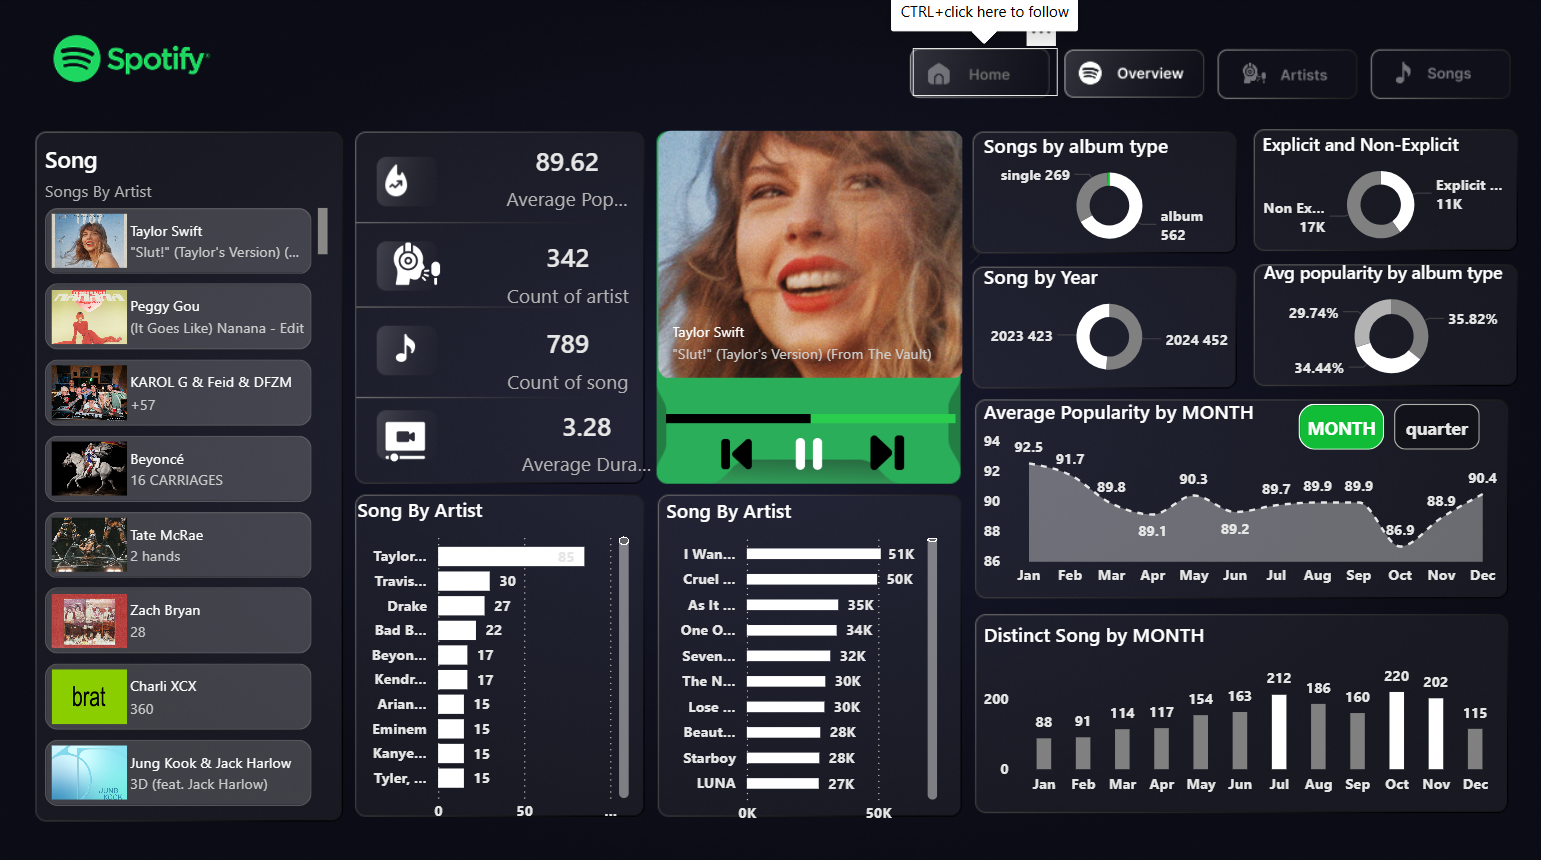

The dashboard page shown, as its layout file describes it:
{"tool":"powerbi","page":{"name":"Page 1","canvas":[1280,720],"ordinal":1},"visuals":[{"type":"clusteredBarChart","title":"Song By Artist","fields":{"Category":["Top-50-World.artist"],"Y":["Count(Top-50-World.song)"]},"box":[292.5,412.5,235,280],"z":0},{"type":"clusteredBarChart","title":"Song By Artist","fields":{"Category":["Top-50-World.song"],"Y":["Sum(Top-50-World.popularity)"]},"box":[547.7,414,234.9,280.2],"z":1000},{"type":"areaChart","fields":{"Category":["Top-50-World.MONTH"],"Y":["Top-50-World.Average Popularity"]},"box":[811.2,331.2,437.5,165],"z":2000},{"type":"advancedSlicerVisual","fields":{"Values":["slicer_option.slicer_option"]},"box":[1072.5,331.2,160,48.8],"z":3000},{"type":"donutChart","title":"Songs by album type","fields":{"Y":["Count(Top-50-World.song)"],"Category":["Top-50-World.album_type"]},"box":[811.2,111.2,218.8,101.2],"z":4000},{"type":"donutChart","title":"Explicit and Non-Explicit","fields":{"Y":["Top-50-World.Explicit Songs Count","Top-50-World.Non Explicit Songs Count"]},"box":[1042.5,111.2,206.2,101.2],"z":5000},{"type":"donutChart","title":"Song by Year","fields":{"Y":["Count(Top-50-World.song)"],"Category":["Top-50-World.YEAR"]},"box":[811.6,219.8,218.6,101.2],"z":6000},{"type":"donutChart","title":"Avg popularity by album type","fields":{"Category":["Top-50-World.album_type"],"Y":["Top-50-World.Average Popularity"]},"box":[1043,216.3,222.1,108.1],"z":7000},{"type":"columnChart","title":"Distinct Song by MONTH","fields":{"Category":["Top-50-World.MONTH"],"Y":["Count(Top-50-World.song)"]},"box":[811.6,516.3,437.2,153.5],"z":8000},{"type":"card","fields":{"Values":["Count(Top-50-World.song)"]},"box":[411.6,262.8,120.9,70.9],"z":9000},{"type":"card","fields":{"Values":["Count(Top-50-World.artist)"]},"box":[411.6,191.9,120.9,70.9],"z":10000},{"type":"card","fields":{"Values":["Top-50-World.Average Duration (Minutes)"]},"box":[426.7,331.4,120.9,70.9],"z":11000},{"type":"card","fields":{"Values":["Top-50-World.Average Popularity"]},"box":[411.6,111.6,119.8,70.9],"z":12000},{"type":"image","box":[293,347.7,87.2,39.5],"z":13000},{"type":"image","box":[325.6,270.9,23.3,39.5],"z":14000},{"type":"image","box":[316.3,201.2,60.5,38.4],"z":15000},{"type":"image","box":[319.8,131.4,26.7,39.5],"z":16000},{"type":"advancedSlicerVisual","title":"Song ","fields":{"Values":["Top-50-World.song"]},"box":[33.5,121.7,244.5,559.4],"z":17000},{"type":"advancedSlicerVisual","title":"Song ","fields":{"Values":["Top-50-World.song"]},"box":[519.8,103.5,304.7,217.4],"z":18000},{"type":"hundredPercentStackedBarChart","fields":{"Y":["Top-50-World.Average Popularity","Avg(Top-50-World.popularity)"]},"box":[547.7,310.5,250,69.8],"z":19000},{"type":"image","box":[583.7,364,55.8,29.1],"z":20000},{"type":"image","box":[710.5,360.5,51.2,32.6],"z":21000},{"type":"image","box":[636.5,365.1,70.3,26.8],"z":22000},{"type":"shape","box":[547.1,111.7,250.1,290.3],"z":23000},{"type":"actionButton","box":[757.1,41.3,120.6,40.2],"z":24000},{"type":"actionButton","box":[882.1,41.3,127.3,40.2],"z":25000},{"type":"actionButton","box":[1139,41.3,120.6,40.2],"z":26000},{"type":"actionButton","box":[1009.4,41.3,120.6,40.2],"z":27000}]}

Visuals, with their boxes on the page's 1280x720 design canvas (x1, y1, x2, y2). These are canvas units, not pixel positions in the 1541x860 screenshot, which may show the page scaled, cropped or inside an application window:
"Song By Artist" clusteredBarChart: (292,412,528,692)
"Song By Artist" clusteredBarChart: (548,414,783,694)
areaChart - Top-50-World.MONTH x Top-50-World.Average Popularity: (811,331,1249,496)
advancedSlicerVisual - slicer_option.slicer_option: (1072,331,1232,380)
"Songs by album type" donutChart: (811,111,1030,212)
"Explicit and Non-Explicit" donutChart: (1042,111,1249,212)
"Song by Year" donutChart: (812,220,1030,321)
"Avg popularity by album type" donutChart: (1043,216,1265,324)
"Distinct Song by MONTH" columnChart: (812,516,1249,670)
card - Count(Top-50-World.song): (412,263,532,334)
card - Count(Top-50-World.artist): (412,192,532,263)
card - Top-50-World.Average Duration (Minutes): (427,331,548,402)
card - Top-50-World.Average Popularity: (412,112,531,182)
image: (293,348,380,387)
image: (326,271,349,310)
image: (316,201,377,240)
image: (320,131,346,171)
"Song " advancedSlicerVisual: (34,122,278,681)
"Song " advancedSlicerVisual: (520,104,824,321)
hundredPercentStackedBarChart - Top-50-World.Average Popularity x Avg(Top-50-World.popularity): (548,310,798,380)
image: (584,364,640,393)
image: (710,360,762,393)
image: (636,365,707,392)
shape: (547,112,797,402)
actionButton: (757,41,878,82)
actionButton: (882,41,1009,82)
actionButton: (1139,41,1260,82)
actionButton: (1009,41,1130,82)
